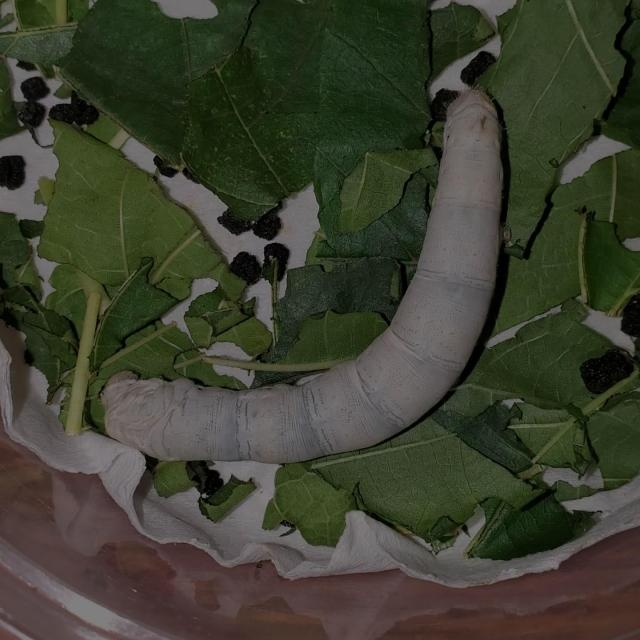Healthy: (79, 69, 533, 478)
